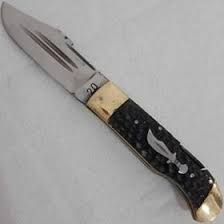Knife: (1, 2, 223, 221)
